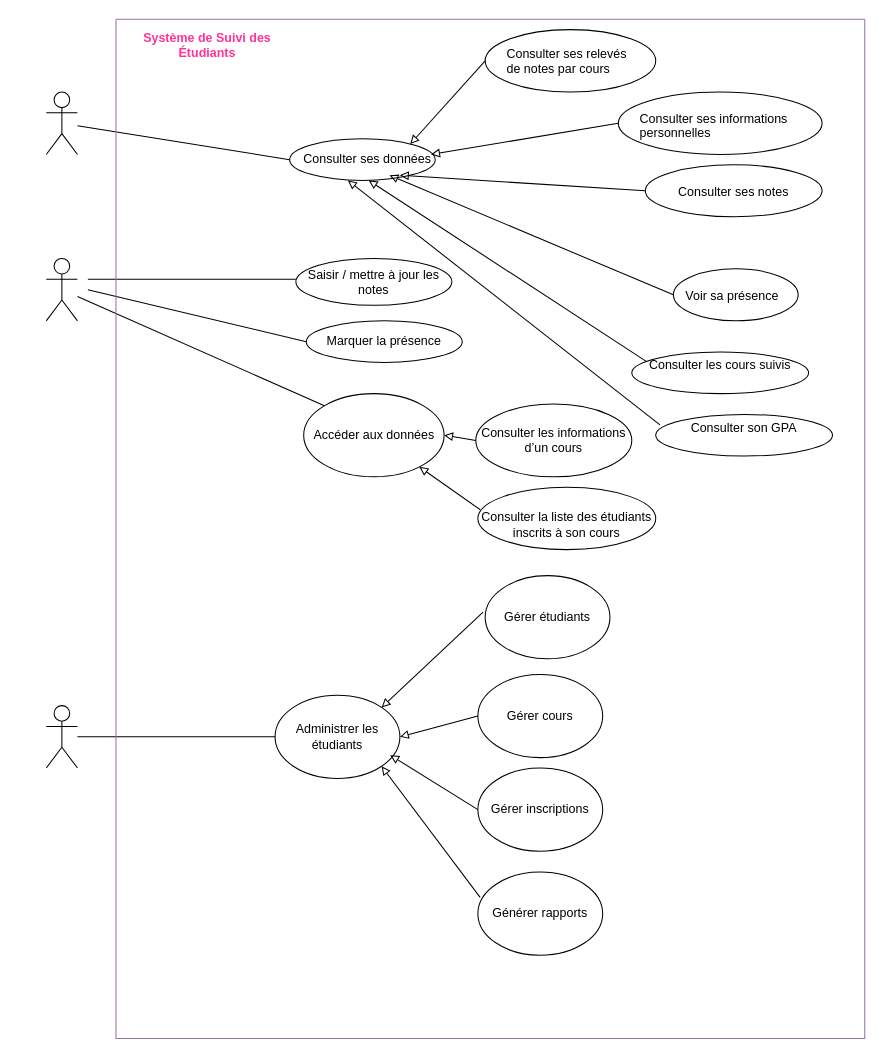
Some shapes in this 883 by 1057 pixel diagram are drawn without their labels. The box of each missing label's shape, as (x1, y1, x2, y2) in pixels:
Administrateur: (45, 705, 77, 768)
Instructor: (45, 257, 77, 321)
Student: (45, 91, 77, 154)
